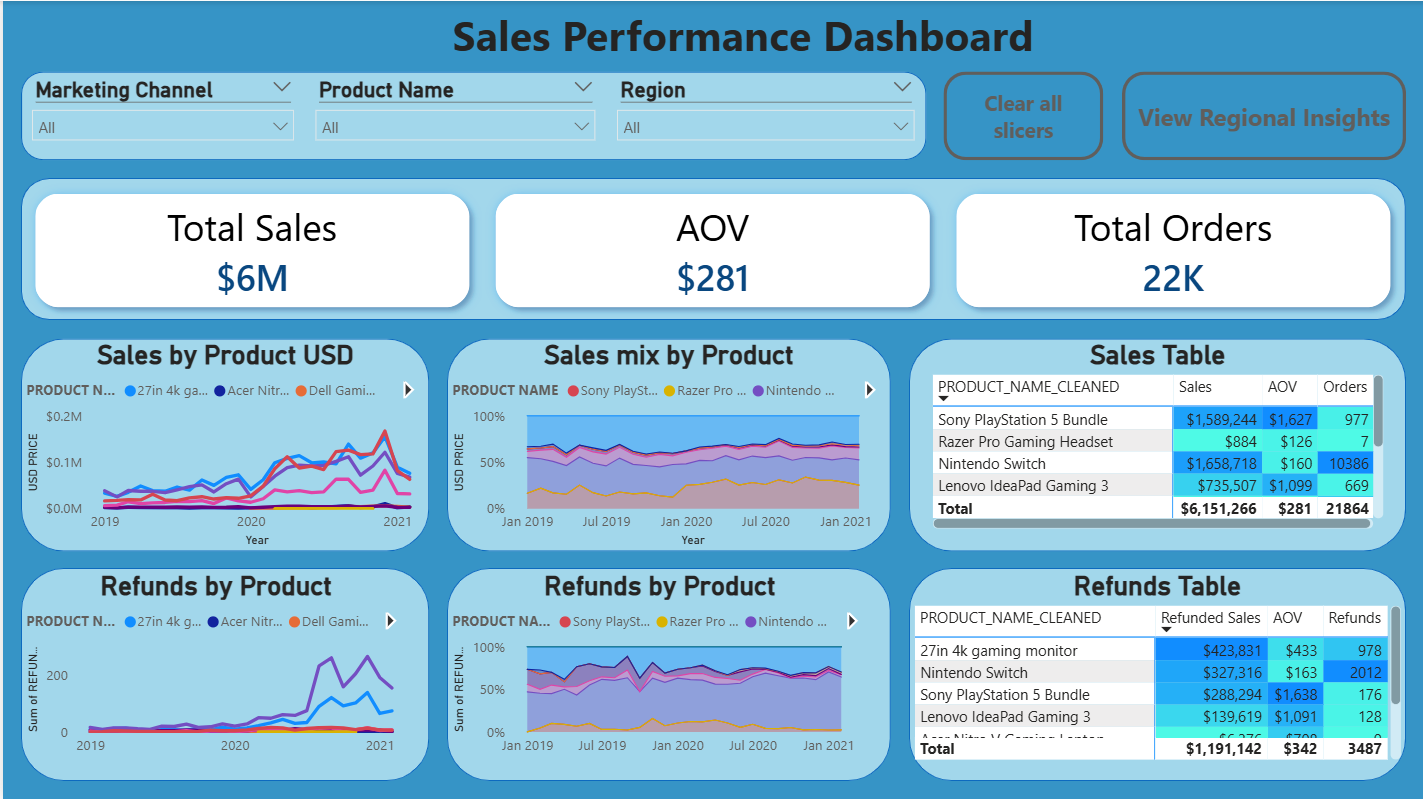

This screenshot's page, from the dashboard's own definition file:
{"tool":"powerbi","page":{"name":"Sales","canvas":[1280,720],"ordinal":0},"visuals":[{"type":"group","id":"g1","title":"Background","box":[16,64,1248,640],"z":0},{"type":"shape","box":[16,160,1248,128],"z":0,"group":"g1"},{"type":"lineChart","title":"Sales by Product USD","fields":{"Y":["Sum(orders_CLEAN.USD_PRICE)"],"Category":["orders_CLEAN.PURCHASE_TS_CLEANED .Variation.Date Hierarchy.Year","orders_CLEAN.PURCHASE_TS_CLEANED .Variation.Date Hierarchy.Month"],"Series":["orders_CLEAN.PRODUCT_NAME_CLEANED"]},"box":[16,304,368,192],"z":1000},{"type":"shape","box":[16,304,368,192],"z":1000,"group":"g1"},{"type":"lineChart","title":"Refunds by Product","fields":{"Category":["orders_CLEAN.PURCHASE_TS_CLEANED .Variation.Date Hierarchy.Year","orders_CLEAN.PURCHASE_TS_CLEANED .Variation.Date Hierarchy.Month"],"Series":["orders_CLEAN.PRODUCT_NAME_CLEANED"],"Y":["Sum(orders_CLEAN.REFUNDED)"]},"box":[16,512,352,176],"z":2000},{"type":"shape","box":[16,512,368,192],"z":2000,"group":"g1"},{"type":"hundredPercentStackedAreaChart","title":"Sales mix by Product","fields":{"Category":["orders_CLEAN.PURCHASE_TS_CLEANED .Variation.Date Hierarchy.Year","orders_CLEAN.PURCHASE_TS_CLEANED .Variation.Date Hierarchy.Month"],"Y":["Sum(orders_CLEAN.USD_PRICE)"],"Series":["orders_CLEAN.PRODUCT_NAME_CLEANED"]},"box":[400,304,400,192],"z":3000},{"type":"shape","box":[400,304,400,192],"z":3000,"group":"g1"},{"type":"shape","box":[816,304,448,192],"z":3500,"group":"g1"},{"type":"hundredPercentStackedAreaChart","title":"Refunds by Product","fields":{"Category":["orders_CLEAN.PURCHASE_TS_CLEANED .Variation.Date Hierarchy.Year","orders_CLEAN.PURCHASE_TS_CLEANED .Variation.Date Hierarchy.Month"],"Series":["orders_CLEAN.PRODUCT_NAME_CLEANED"],"Y":["Sum(orders_CLEAN.REFUNDED)"]},"box":[400,512,384,176],"z":4000},{"type":"shape","box":[400,512,400,192],"z":4000,"group":"g1"},{"type":"pivotTable","title":"Sales Table","fields":{"Rows":["orders_CLEAN.PRODUCT_NAME_CLEANED"],"Values":["Sum(orders_CLEAN.USD_PRICE)","Avg(orders_CLEAN.USD_PRICE)","CountNonNull(orders_CLEAN.ORDER_ID)"]},"box":[832,304,416,176],"z":5000},{"type":"pivotTable","title":"Refunds Table","fields":{"Rows":["orders_CLEAN.PRODUCT_NAME_CLEANED"],"Values":["Sum(orders_CLEAN.USD_PRICE)","Avg(orders_CLEAN.USD_PRICE)","CountNonNull(orders_CLEAN.ORDER_ID)"]},"box":[816,512,448,176],"z":6000},{"type":"shape","box":[816,512,448,192],"z":6000,"group":"g1"},{"type":"shape","box":[16,64,816,80],"z":6500,"group":"g1"},{"type":"cardVisual","fields":{"Data":["Sum(orders_CLEAN.USD_PRICE)","Avg(orders_CLEAN.USD_PRICE)","orders_CLEAN.Total Orders"]},"box":[0,144,1280,160],"z":7000},{"type":"textbox","box":[400,0,560,64],"z":8000},{"type":"slicer","fields":{"Values":["orders_CLEAN.MARKETING_CHANNEL_CLEANED"]},"box":[16,64,256,64],"z":9000},{"type":"slicer","fields":{"Values":["orders_CLEAN.PRODUCT_NAME_CLEANED"]},"box":[272,64,272,64],"z":10000},{"type":"slicer","fields":{"Values":["region_CLEAN.REGION"]},"box":[544,64,288,64],"z":11000},{"type":"actionButton","title":"View Regional Insights","box":[1008,64,256,80],"z":12000},{"type":"actionButton","box":[848,64,144,80],"z":13000}]}

Visuals, with their boxes in screenshot pixels (x1, y1, x2, y2), scaled from the page's 1280x720 canvas onto the 1423x799 screenshot:
"Background" group: 18:71:1405:781
shape: 18:178:1405:320
"Sales by Product USD" lineChart: 18:337:427:550
shape: 18:337:427:550
"Refunds by Product" lineChart: 18:568:409:763
shape: 18:568:427:781
"Sales mix by Product" hundredPercentStackedAreaChart: 445:337:889:550
shape: 445:337:889:550
shape: 907:337:1405:550
"Refunds by Product" hundredPercentStackedAreaChart: 445:568:872:763
shape: 445:568:889:781
"Sales Table" pivotTable: 925:337:1387:533
"Refunds Table" pivotTable: 907:568:1405:763
shape: 907:568:1405:781
shape: 18:71:925:160
cardVisual - Sum(orders_CLEAN.USD_PRICE) x Avg(orders_CLEAN.USD_PRICE): 0:160:1422:337
textbox: 445:0:1067:71
slicer - orders_CLEAN.MARKETING_CHANNEL_CLEANED: 18:71:302:142
slicer - orders_CLEAN.PRODUCT_NAME_CLEANED: 302:71:605:142
slicer - region_CLEAN.REGION: 605:71:925:142
"View Regional Insights" actionButton: 1121:71:1405:160
actionButton: 943:71:1103:160
